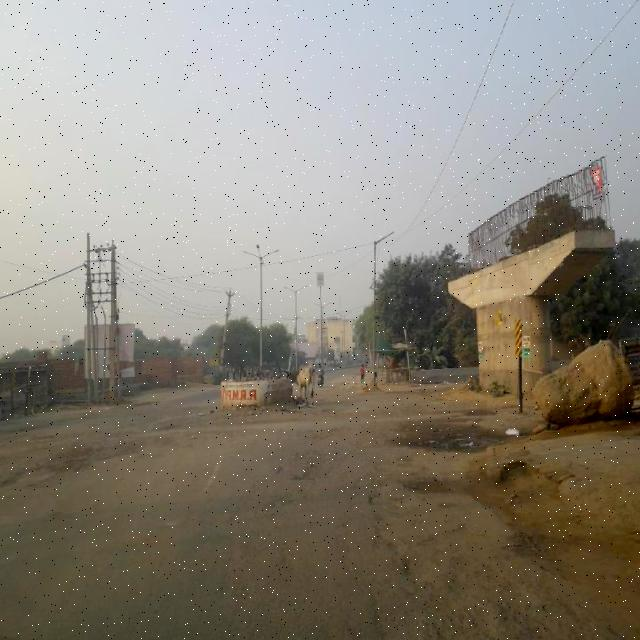D40: (306, 520, 498, 628), (353, 469, 455, 519)
